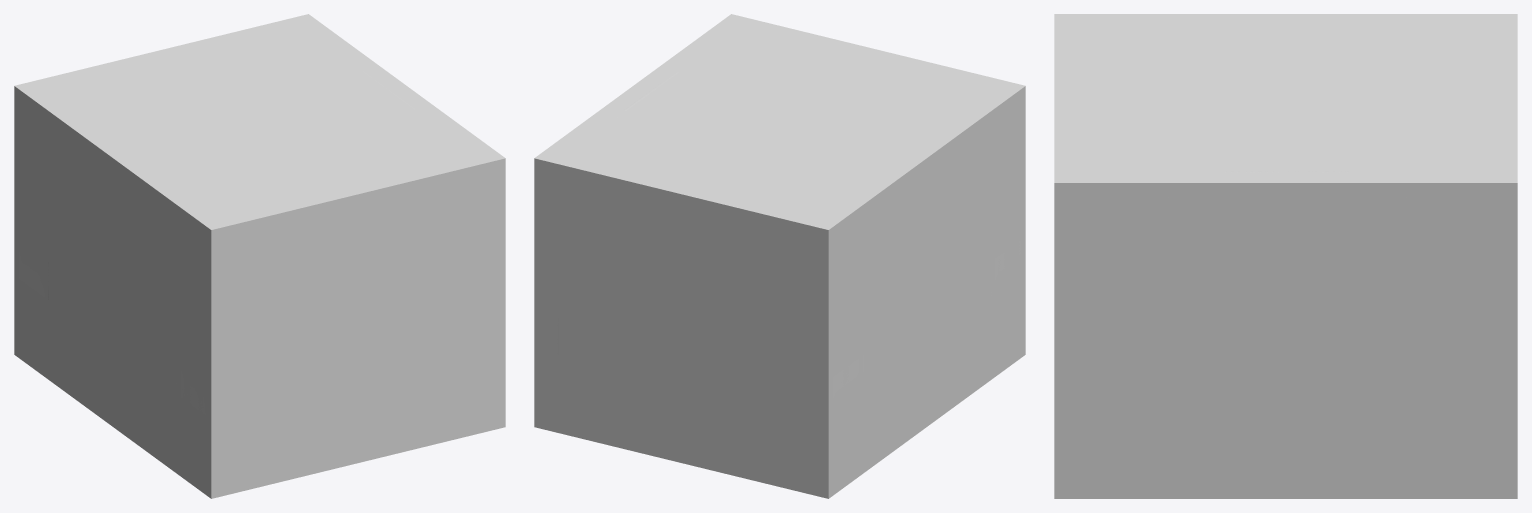
File: leather_armchair_b.glb
3 renders of one model, left to right at view 1: azimuth 30°, elevation 25°; view 2: azimuth 150°, elevation 25°; view 3: azimuth 270°, elevation 25°, orthographic. The views are drawn at different scales.
Visible parts, largest first — view 1: SofaLeather_0004_COL, SofaLeather_0004; view 2: SofaLeather_0004_COL, SofaLeather_0004; view 3: SofaLeather_0004_COL.
Boxes of the visible parts, x1,y1,x2,y2 form: SofaLeather_0004_COL: [14, 14, 505, 498]; SofaLeather_0004: [19, 240, 480, 416]; SofaLeather_0004_COL: [534, 14, 1025, 498]; SofaLeather_0004: [557, 242, 1020, 416]; SofaLeather_0004_COL: [1054, 14, 1517, 498].
Size of what is drawn, in the model's own units: 0.9586 by 0.8364 by 1.11.
2 materials, 2 textured.
